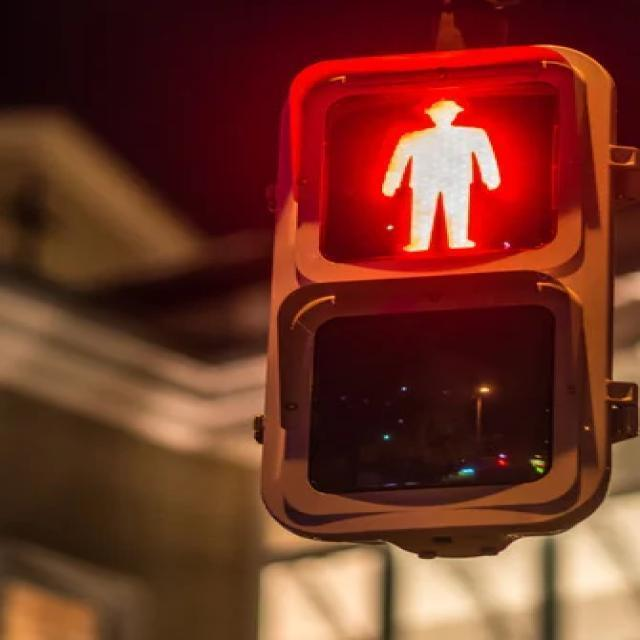redlight: (268, 43, 614, 541)
